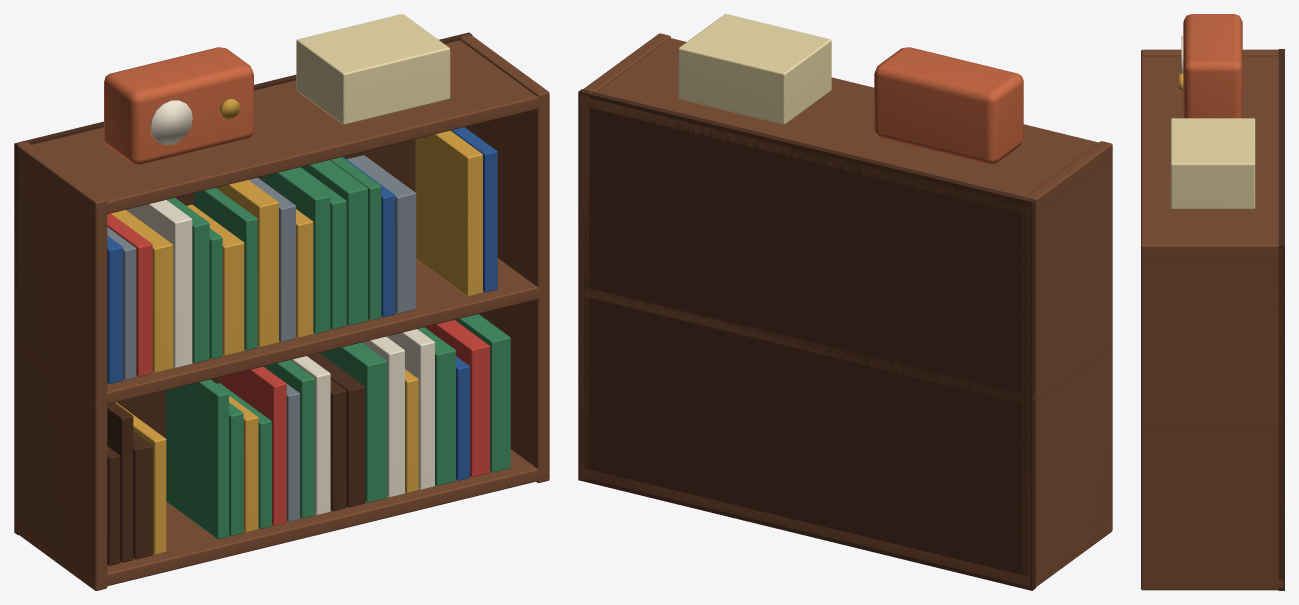
File: RmLowBookcase.fbx
3 renders of one model, left to right at view 1: azimuth 30°, elevation 25°; view 2: azimuth 150°, elevation 25°; view 3: azimuth 270°, elevation 25°, orthographic. The views are drawn at different scales.
Visible parts, largest first — view 1: RmLowBookcaseBody; view 2: RmLowBookcaseBody; view 3: RmLowBookcaseBody.
Boxes of the visible parts, box(x1,y1,x2,y2) form: RmLowBookcaseBody: box(14, 14, 549, 590); RmLowBookcaseBody: box(578, 14, 1112, 590); RmLowBookcaseBody: box(1141, 14, 1284, 590).
Bounding box in the file's own units: 1.1 × 1.07 × 0.34.
